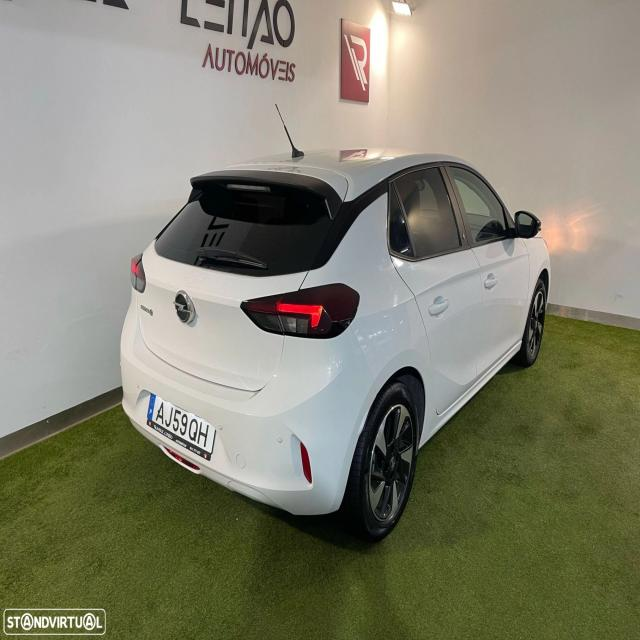portuguese-license-plates: (146, 392, 217, 460)
